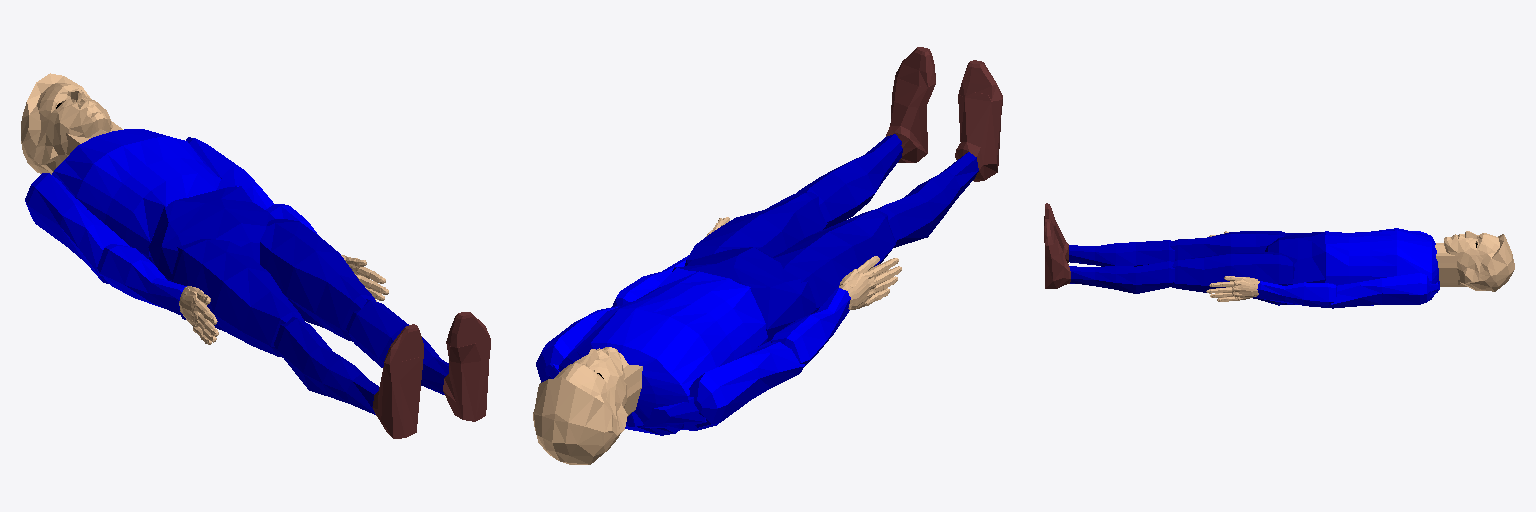
--- Render facts (derived) ---
Views: 3 orthographic renders of the robot side by side, from view 1: azimuth 30°, elevation 25°; view 2: azimuth 150°, elevation 25°; view 3: azimuth 270°, elevation 25°.
Model man1 with 64 links and 63 joints (63 revolute), rooted at Hips, posed every joint at zero.
Visible links, largest first — view 1: Chest, RThigh, LThigh, Hips, Head, RCalf, RShoulder3, LCalf, RForearm, RFoot, LFoot, LShoulder3 (+3 smaller); view 2: Chest, Head, RThigh, Hips, RShoulder3, LThigh, LCalf, RCalf, RFoot, LFoot, RForearm, LShoulder3 (+6 smaller); view 3: Chest, LThigh, Head, LShoulder3, LCalf, RCalf, Hips, RThigh, LForearm, LFoot, Neck.
Boxes of the visible links, x1=… form: Chest: x1=52, y1=129, x2=238, y2=261; RThigh: x1=170, y1=239, x2=304, y2=357; LThigh: x1=260, y1=219, x2=375, y2=341; Hips: x1=148, y1=186, x2=274, y2=280; Head: x1=21, y1=73, x2=112, y2=174; RCalf: x1=274, y1=317, x2=378, y2=414; RShoulder3: x1=25, y1=173, x2=129, y2=283; LCalf: x1=346, y1=299, x2=448, y2=394; RForearm: x1=97, y1=244, x2=186, y2=315; RFoot: x1=372, y1=356, x2=423, y2=438; LFoot: x1=443, y1=340, x2=490, y2=421; LShoulder3: x1=186, y1=137, x2=273, y2=209; Chest: x1=558, y1=267, x2=767, y2=435; Head: x1=533, y1=347, x2=627, y2=464; RThigh: x1=773, y1=208, x2=896, y2=310; Hips: x1=672, y1=247, x2=816, y2=341; RShoulder3: x1=689, y1=341, x2=804, y2=427; LThigh: x1=685, y1=192, x2=827, y2=265; LCalf: x1=796, y1=134, x2=902, y2=228; RCalf: x1=878, y1=152, x2=978, y2=247; RFoot: x1=955, y1=92, x2=1002, y2=181; LFoot: x1=886, y1=75, x2=935, y2=162; RForearm: x1=771, y1=288, x2=850, y2=366; LShoulder3: x1=536, y1=305, x2=622, y2=382; Chest: x1=1325, y1=228, x2=1439, y2=300; LThigh: x1=1171, y1=251, x2=1294, y2=305; Head: x1=1444, y1=231, x2=1514, y2=291; LShoulder3: x1=1325, y1=273, x2=1430, y2=308; LCalf: x1=1069, y1=261, x2=1174, y2=293; RCalf: x1=1069, y1=240, x2=1174, y2=266; Hips: x1=1265, y1=232, x2=1325, y2=305; RThigh: x1=1170, y1=231, x2=1285, y2=260; LForearm: x1=1257, y1=281, x2=1336, y2=307; LFoot: x1=1045, y1=238, x2=1070, y2=288; Neck: x1=1435, y1=243, x2=1466, y2=286.
Bounding box of the posed robot: 0.4804 × 1.67 × 0.3273 m (x, y, z).
64 mesh visuals loaded from 64 distinct referenced files (64 Collada DAE).

URDF robot description (man1):
<?xml version="1.0"?>
<robot name="man1"
       xmlns:xi="http://www.w3.org/2001/XInclude">
  <link name="Hips">
    <visual>
      <origin xyz="0 0.8569 0" rpy="0 -0 0"/>
      <geometry>
        <mesh filename="package://libhuman/robot/mesh/Hips_mesh.dae" scale="1 1 1" />
      </geometry>
    </visual>
    <collision>
      <origin xyz="0 0.8569 0" rpy="0 -0 0"/>
      <geometry>
        <mesh filename="package://libhuman/robot/mesh/Hips_mesh.dae" scale="1 1 1" />
      </geometry>
    </collision>
    <inertial>
      <mass value="1" />
      <origin xyz="0 0 0" rpy="0 -0 0"/>
      <inertia ixx="1" ixy="0" ixz="0" iyy="1" iyz="0" izz="1"/>
    </inertial>
  </link>
  <link name="Chest">
    <visual>
      <origin xyz="0 0.0824 -0.0145" rpy="0 -0 0"/>
      <geometry>
        <mesh filename="package://libhuman/robot/mesh/Chest_mesh.dae" scale="1 1 1" />
      </geometry>
    </visual>
    <collision>
      <origin xyz="0 0.0824 -0.0145" rpy="0 -0 0"/>
      <geometry>
        <mesh filename="package://libhuman/robot/mesh/Chest_mesh.dae" scale="1 1 1" />
      </geometry>
    </collision>
    <inertial>
      <mass value="1" />
      <origin xyz="0 -2.77556e-17 0" rpy="0 -0 0"/>
      <inertia ixx="1" ixy="0" ixz="0" iyy="1" iyz="0" izz="1"/>
    </inertial>
  </link>
  <link name="LCollar">
    <visual>
      <origin xyz="0 0.3917 0.0145" rpy="0 -0 0"/>
      <geometry>
        <mesh filename="package://libhuman/robot/mesh/LCollar_mesh.dae" scale="1 1 1" />
      </geometry>
    </visual>
    <collision>
      <origin xyz="0 0.3917 0.0145" rpy="0 -0 0"/>
      <geometry>
        <mesh filename="package://libhuman/robot/mesh/LCollar_mesh.dae" scale="1 1 1" />
      </geometry>
    </collision>
    <inertial>
      <mass value="1" />
      <origin xyz="0 5.55112e-17 0" rpy="0 -0 0"/>
      <inertia ixx="1" ixy="0" ixz="0" iyy="1" iyz="0" izz="1"/>
    </inertial>
  </link>
  <link name="LShoulder">
    <visual>
      <origin xyz="0.1744 0 0" rpy="0 -0 0"/>
      <geometry>
        <mesh filename="package://libhuman/robot/mesh/LShoulder_mesh.dae" scale="1 1 1" />
      </geometry>
    </visual>
    <collision>
      <origin xyz="0.1744 0 0" rpy="0 -0 0"/>
      <geometry>
        <mesh filename="package://libhuman/robot/mesh/LShoulder_mesh.dae" scale="1 1 1" />
      </geometry>
    </collision>
    <inertial>
      <mass value="1" />
      <origin xyz="0 5.55112e-17 0" rpy="0 -0 0"/>
      <inertia ixx="1" ixy="0" ixz="0" iyy="1" iyz="0" izz="1"/>
    </inertial>
  </link>
  <link name="LShoulder2">
    <visual>
      <origin xyz="0 0 0" rpy="0 -0 0"/>
      <geometry>
        <mesh filename="package://libhuman/robot/mesh/LShoulder2_mesh.dae" scale="1 1 1" />
      </geometry>
    </visual>
    <collision>
      <origin xyz="0 0 0" rpy="0 -0 0"/>
      <geometry>
        <mesh filename="package://libhuman/robot/mesh/LShoulder2_mesh.dae" scale="1 1 1" />
      </geometry>
    </collision>
    <inertial>
      <mass value="1" />
      <origin xyz="0 5.55112e-17 0" rpy="0 -0 0"/>
      <inertia ixx="1" ixy="0" ixz="0" iyy="1" iyz="0" izz="1"/>
    </inertial>
  </link>
  <link name="LShoulder3">
    <visual>
      <origin xyz="0 0 0" rpy="0 -0 0"/>
      <geometry>
        <mesh filename="package://libhuman/robot/mesh/LShoulder3_mesh.dae" scale="1 1 1" />
      </geometry>
    </visual>
    <collision>
      <origin xyz="0 0 0" rpy="0 -0 0"/>
      <geometry>
        <mesh filename="package://libhuman/robot/mesh/LShoulder3_mesh.dae" scale="1 1 1" />
      </geometry>
    </collision>
    <inertial>
      <mass value="1" />
      <origin xyz="0 5.55112e-17 0" rpy="0 -0 0"/>
      <inertia ixx="1" ixy="0" ixz="0" iyy="1" iyz="0" izz="1"/>
    </inertial>
  </link>
  <link name="LForearm">
    <visual>
      <origin xyz="0 -0.3102 0" rpy="0 -0 0"/>
      <geometry>
        <mesh filename="package://libhuman/robot/mesh/LForearm_mesh.dae" scale="1 1 1" />
      </geometry>
    </visual>
    <collision>
      <origin xyz="0 -0.3102 0" rpy="0 -0 0"/>
      <geometry>
        <mesh filename="package://libhuman/robot/mesh/LForearm_mesh.dae" scale="1 1 1" />
      </geometry>
    </collision>
    <inertial>
      <mass value="1" />
      <origin xyz="0 5.55112e-17 0" rpy="0 -0 0"/>
      <inertia ixx="1" ixy="0" ixz="0" iyy="1" iyz="0" izz="1"/>
    </inertial>
  </link>
  <link name="LHand">
    <visual>
      <origin xyz="0 -0.2617 0" rpy="0 -0 0"/>
      <geometry>
        <mesh filename="package://libhuman/robot/mesh/LHand_mesh.dae" scale="1 1 1" />
      </geometry>
    </visual>
    <collision>
      <origin xyz="0 -0.2617 0" rpy="0 -0 0"/>
      <geometry>
        <mesh filename="package://libhuman/robot/mesh/LHand_mesh.dae" scale="1 1 1" />
      </geometry>
    </collision>
    <inertial>
      <mass value="1" />
      <origin xyz="0 2.22045e-16 0" rpy="0 -0 0"/>
      <inertia ixx="1" ixy="0" ixz="0" iyy="1" iyz="0" izz="1"/>
    </inertial>
  </link>
  <link name="LHand2">
    <visual>
      <origin xyz="0 0 0" rpy="0 -0 0"/>
      <geometry>
        <mesh filename="package://libhuman/robot/mesh/LHand2_mesh.dae" scale="1 1 1" />
      </geometry>
    </visual>
    <collision>
      <origin xyz="0 0 0" rpy="0 -0 0"/>
      <geometry>
        <mesh filename="package://libhuman/robot/mesh/LHand2_mesh.dae" scale="1 1 1" />
      </geometry>
    </collision>
    <inertial>
      <mass value="1" />
      <origin xyz="0 2.22045e-16 0" rpy="0 -0 0"/>
      <inertia ixx="1" ixy="0" ixz="0" iyy="1" iyz="0" izz="1"/>
    </inertial>
  </link>
  <link name="LHand3">
    <visual>
      <origin xyz="0 0 0" rpy="0 -0 0"/>
      <geometry>
        <mesh filename="package://libhuman/robot/mesh/LHand3_mesh.dae" scale="1 1 1" />
      </geometry>
    </visual>
    <collision>
      <origin xyz="0 0 0" rpy="0 -0 0"/>
      <geometry>
        <mesh filename="package://libhuman/robot/mesh/LHand3_mesh.dae" scale="1 1 1" />
      </geometry>
    </collision>
    <inertial>
      <mass value="1" />
      <origin xyz="0 2.22045e-16 0" rpy="0 -0 0"/>
      <inertia ixx="1" ixy="0" ixz="0" iyy="1" iyz="0" izz="1"/>
    </inertial>
  </link>
  <link name="LFing10">
    <visual>
      <origin xyz="0.0150049 -0.0850973 0.02267" rpy="0 -0 0"/>
      <geometry>
        <mesh filename="package://libhuman/robot/mesh/LFing10_mesh.dae" scale="1 1 1" />
      </geometry>
    </visual>
    <collision>
      <origin xyz="0.0150049 -0.0850973 0.02267" rpy="0 -0 0"/>
      <geometry>
        <mesh filename="package://libhuman/robot/mesh/LFing10_mesh.dae" scale="1 1 1" />
      </geometry>
    </collision>
    <inertial>
      <mass value="1" />
      <origin xyz="1e-07 3e-07 0" rpy="0 -0 0"/>
      <inertia ixx="1" ixy="0" ixz="0" iyy="1" iyz="0" izz="1"/>
    </inertial>
  </link>
  <link name="LFing11">
    <visual>
      <origin xyz="0.00822397 -0.0466405 0" rpy="0 -0 0"/>
      <geometry>
        <mesh filename="package://libhuman/robot/mesh/LFing11_mesh.dae" scale="1 1 1" />
      </geometry>
    </visual>
    <collision>
      <origin xyz="0.00822397 -0.0466405 0" rpy="0 -0 0"/>
      <geometry>
        <mesh filename="package://libhuman/robot/mesh/LFing11_mesh.dae" scale="1 1 1" />
      </geometry>
    </collision>
    <inertial>
      <mass value="1" />
      <origin xyz="1.3e-07 -2e-07 0" rpy="0 -0 0"/>
      <inertia ixx="1" ixy="0" ixz="0" iyy="1" iyz="0" izz="1"/>
    </inertial>
  </link>
  <link name="LFing12">
    <visual>
      <origin xyz="0.004817 -0.0273186 0" rpy="0 -0 0"/>
      <geometry>
        <mesh filename="package://libhuman/robot/mesh/LFing12_mesh.dae" scale="1 1 1" />
      </geometry>
    </visual>
    <collision>
      <origin xyz="0.004817 -0.0273186 0" rpy="0 -0 0"/>
      <geometry>
        <mesh filename="package://libhuman/robot/mesh/LFing12_mesh.dae" scale="1 1 1" />
      </geometry>
    </collision>
    <inertial>
      <mass value="1" />
      <origin xyz="1.3e-07 4e-07 0" rpy="0 -0 0"/>
      <inertia ixx="1" ixy="0" ixz="0" iyy="1" iyz="0" izz="1"/>
    </inertial>
  </link>
  <link name="LFing20">
    <visual>
      <origin xyz="0.0149702 -0.0849003 0" rpy="0 -0 0"/>
      <geometry>
        <mesh filename="package://libhuman/robot/mesh/LFing20_mesh.dae" scale="1 1 1" />
      </geometry>
    </visual>
    <collision>
      <origin xyz="0.0149702 -0.0849003 0" rpy="0 -0 0"/>
      <geometry>
        <mesh filename="package://libhuman/robot/mesh/LFing20_mesh.dae" scale="1 1 1" />
      </geometry>
    </collision>
    <inertial>
      <mass value="1" />
      <origin xyz="-2e-07 3e-07 0" rpy="0 -0 0"/>
      <inertia ixx="1" ixy="0" ixz="0" iyy="1" iyz="0" izz="1"/>
    </inertial>
  </link>
  <link name="LFing21">
    <visual>
      <origin xyz="0.00892898 -0.0506388 0" rpy="0 -0 0"/>
      <geometry>
        <mesh filename="package://libhuman/robot/mesh/LFing21_mesh.dae" scale="1 1 1" />
      </geometry>
    </visual>
    <collision>
      <origin xyz="0.00892898 -0.0506388 0" rpy="0 -0 0"/>
      <geometry>
        <mesh filename="package://libhuman/robot/mesh/LFing21_mesh.dae" scale="1 1 1" />
      </geometry>
    </collision>
    <inertial>
      <mass value="1" />
      <origin xyz="-1.8e-07 1e-07 0" rpy="0 -0 0"/>
      <inertia ixx="1" ixy="0" ixz="0" iyy="1" iyz="0" izz="1"/>
    </inertial>
  </link>
  <link name="LFing22">
    <visual>
      <origin xyz="0.00570608 -0.0323608 0" rpy="0 -0 0"/>
      <geometry>
        <mesh filename="package://libhuman/robot/mesh/LFing22_mesh.dae" scale="1 1 1" />
      </geometry>
    </visual>
    <collision>
      <origin xyz="0.00570608 -0.0323608 0" rpy="0 -0 0"/>
      <geometry>
        <mesh filename="package://libhuman/robot/mesh/LFing22_mesh.dae" scale="1 1 1" />
      </geometry>
    </collision>
    <inertial>
      <mass value="1" />
      <origin xyz="-2.6e-07 -1e-07 0" rpy="0 -0 0"/>
      <inertia ixx="1" ixy="0" ixz="0" iyy="1" iyz="0" izz="1"/>
    </inertial>
  </link>
  <link name="LFing30">
    <visual>
      <origin xyz="0.0137286 -0.077859 -0.0186" rpy="0 -0 0"/>
      <geometry>
        <mesh filename="package://libhuman/robot/mesh/LFing30_mesh.dae" scale="1 1 1" />
      </geometry>
    </visual>
    <collision>
      <origin xyz="0.0137286 -0.077859 -0.0186" rpy="0 -0 0"/>
      <geometry>
        <mesh filename="package://libhuman/robot/mesh/LFing30_mesh.dae" scale="1 1 1" />
      </geometry>
    </collision>
    <inertial>
      <mass value="1" />
      <origin xyz="4e-07 2.22045e-16 0" rpy="0 -0 0"/>
      <inertia ixx="1" ixy="0" ixz="0" iyy="1" iyz="0" izz="1"/>
    </inertial>
  </link>
  <link name="LFing31">
    <visual>
      <origin xyz="0.00819098 -0.0464534 0" rpy="0 -0 0"/>
      <geometry>
        <mesh filename="package://libhuman/robot/mesh/LFing31_mesh.dae" scale="1 1 1" />
      </geometry>
    </visual>
    <collision>
      <origin xyz="0.00819098 -0.0464534 0" rpy="0 -0 0"/>
      <geometry>
        <mesh filename="package://libhuman/robot/mesh/LFing31_mesh.dae" scale="1 1 1" />
      </geometry>
    </collision>
    <inertial>
      <mass value="1" />
      <origin xyz="4.2e-07 4e-07 0" rpy="0 -0 0"/>
      <inertia ixx="1" ixy="0" ixz="0" iyy="1" iyz="0" izz="1"/>
    </inertial>
  </link>
  <link name="LFing32">
    <visual>
      <origin xyz="0.00553764 -0.0314055 0" rpy="0 -0 0"/>
      <geometry>
        <mesh filename="package://libhuman/robot/mesh/LFing32_mesh.dae" scale="1 1 1" />
      </geometry>
    </visual>
    <collision>
      <origin xyz="0.00553764 -0.0314055 0" rpy="0 -0 0"/>
      <geometry>
        <mesh filename="package://libhuman/robot/mesh/LFing32_mesh.dae" scale="1 1 1" />
      </geometry>
    </collision>
    <inertial>
      <mass value="1" />
      <origin xyz="-2.2e-07 -1e-07 0" rpy="0 -0 0"/>
      <inertia ixx="1" ixy="0" ixz="0" iyy="1" iyz="0" izz="1"/>
    </inertial>
  </link>
  <link name="LFing40">
    <visual>
      <origin xyz="0.0123516 -0.0700494 -0.0363" rpy="0 -0 0"/>
      <geometry>
        <mesh filename="package://libhuman/robot/mesh/LFing40_mesh.dae" scale="1 1 1" />
      </geometry>
    </visual>
    <collision>
      <origin xyz="0.0123516 -0.0700494 -0.0363" rpy="0 -0 0"/>
      <geometry>
        <mesh filename="package://libhuman/robot/mesh/LFing40_mesh.dae" scale="1 1 1" />
      </geometry>
    </collision>
    <inertial>
      <mass value="1" />
      <origin xyz="4e-07 4e-07 0" rpy="0 -0 0"/>
      <inertia ixx="1" ixy="0" ixz="0" iyy="1" iyz="0" izz="1"/>
    </inertial>
  </link>
  <link name="LFing41">
    <visual>
      <origin xyz="0.00684694 -0.038831 0" rpy="0 -0 0"/>
      <geometry>
        <mesh filename="package://libhuman/robot/mesh/LFing41_mesh.dae" scale="1 1 1" />
      </geometry>
    </visual>
    <collision>
      <origin xyz="0.00684694 -0.038831 0" rpy="0 -0 0"/>
      <geometry>
        <mesh filename="package://libhuman/robot/mesh/LFing41_mesh.dae" scale="1 1 1" />
      </geometry>
    </collision>
    <inertial>
      <mass value="1" />
      <origin xyz="4.6e-07 4e-07 0" rpy="0 -0 0"/>
      <inertia ixx="1" ixy="0" ixz="0" iyy="1" iyz="0" izz="1"/>
    </inertial>
  </link>
  <link name="LFing42">
    <visual>
      <origin xyz="0.0039279 -0.0222763 0" rpy="0 -0 0"/>
      <geometry>
        <mesh filename="package://libhuman/robot/mesh/LFing42_mesh.dae" scale="1 1 1" />
      </geometry>
    </visual>
    <collision>
      <origin xyz="0.0039279 -0.0222763 0" rpy="0 -0 0"/>
      <geometry>
        <mesh filename="package://libhuman/robot/mesh/LFing42_mesh.dae" scale="1 1 1" />
      </geometry>
    </collision>
    <inertial>
      <mass value="1" />
      <origin xyz="-4.4e-07 -3e-07 0" rpy="0 -0 0"/>
      <inertia ixx="1" ixy="0" ixz="0" iyy="1" iyz="0" izz="1"/>
    </inertial>
  </link>
  <link name="LThumbBase">
    <visual>
      <origin xyz="-0.00739791 -0.0156321 0.0177" rpy="0 -0 0"/>
      <geometry>
        <mesh filename="package://libhuman/robot/mesh/LThumbBase_mesh.dae" scale="1 1 1" />
      </geometry>
    </visual>
    <collision>
      <origin xyz="-0.00739791 -0.0156321 0.0177" rpy="0 -0 0"/>
      <geometry>
        <mesh filename="package://libhuman/robot/mesh/LThumbBase_mesh.dae" scale="1 1 1" />
      </geometry>
    </collision>
    <inertial>
      <mass value="1" />
      <origin xyz="-9e-08 1e-07 0" rpy="0 -0 0"/>
      <inertia ixx="1" ixy="0" ixz="0" iyy="1" iyz="0" izz="1"/>
    </inertial>
  </link>
  <link name="LThumbBase2">
    <visual>
      <origin xyz="0 0 0" rpy="0 -0 0"/>
      <geometry>
        <mesh filename="package://libhuman/robot/mesh/LThumbBase2_mesh.dae" scale="1 1 1" />
      </geometry>
    </visual>
    <collision>
      <origin xyz="0 0 0" rpy="0 -0 0"/>
      <geometry>
        <mesh filename="package://libhuman/robot/mesh/LThumbBase2_mesh.dae" scale="1 1 1" />
      </geometry>
    </collision>
    <inertial>
      <mass value="1" />
      <origin xyz="-9e-08 1e-07 0" rpy="0 -0 0"/>
      <inertia ixx="1" ixy="0" ixz="0" iyy="1" iyz="0" izz="1"/>
    </inertial>
  </link>
  <link name="LThumb0">
    <visual>
      <origin xyz="0 0 0" rpy="0 -0 0"/>
      <geometry>
        <mesh filename="package://libhuman/robot/mesh/LThumb0_mesh.dae" scale="1 1 1" />
      </geometry>
    </visual>
    <collision>
      <origin xyz="0 0 0" rpy="0 -0 0"/>
      <geometry>
        <mesh filename="package://libhuman/robot/mesh/LThumb0_mesh.dae" scale="1 1 1" />
      </geometry>
    </collision>
    <inertial>
      <mass value="1" />
      <origin xyz="-9e-08 1e-07 0" rpy="0 -0 0"/>
      <inertia ixx="1" ixy="0" ixz="0" iyy="1" iyz="0" izz="1"/>
    </inertial>
  </link>
  <link name="LThumb1">
    <visual>
      <origin xyz="0.0081383 -0.046155 0.012558" rpy="0 -0 0"/>
      <geometry>
        <mesh filename="package://libhuman/robot/mesh/LThumb1_mesh.dae" scale="1 1 1" />
      </geometry>
    </visual>
    <collision>
      <origin xyz="0.0081383 -0.046155 0.012558" rpy="0 -0 0"/>
      <geometry>
        <mesh filename="package://libhuman/robot/mesh/LThumb1_mesh.dae" scale="1 1 1" />
      </geometry>
    </collision>
    <inertial>
      <mass value="1" />
      <origin xyz="-3.9e-07 1e-07 0" rpy="0 -0 0"/>
      <inertia ixx="1" ixy="0" ixz="0" iyy="1" iyz="0" izz="1"/>
    </inertial>
  </link>
  <link name="LThumb2">
    <visual>
      <origin xyz="0.006355 -0.036043 0.0098067" rpy="0 -0 0"/>
      <geometry>
        <mesh filename="package://libhuman/robot/mesh/LThumb2_mesh.dae" scale="1 1 1" />
      </geometry>
    </visual>
    <collision>
      <origin xyz="0.006355 -0.036043 0.0098067" rpy="0 -0 0"/>
      <geometry>
        <mesh filename="package://libhuman/robot/mesh/LThumb2_mesh.dae" scale="1 1 1" />
      </geometry>
    </collision>
    <inertial>
      <mass value="1" />
      <origin xyz="-3.9e-07 1e-07 0" rpy="0 -0 0"/>
      <inertia ixx="1" ixy="0" ixz="0" iyy="1" iyz="0" izz="1"/>
    </inertial>
  </link>
  <link name="Neck">
    <visual>
      <origin xyz="0 0.4352 0.0048" rpy="0 -0 0"/>
      <geometry>
        <mesh filename="package://libhuman/robot/mesh/Neck_mesh.dae" scale="1 1 1" />
      </geometry>
    </visual>
    <collision>
      <origin xyz="0 0.4352 0.0048" rpy="0 -0 0"/>
      <geometry>
        <mesh filename="package://libhuman/robot/mesh/Neck_mesh.dae" scale="1 1 1" />
      </geometry>
    </collision>
    <inertial>
      <mass value="1" />
      <origin xyz="0 -1.11022e-16 -3.46945e-18" rpy="0 -0 0"/>
      <inertia ixx="1" ixy="0" ixz="0" iyy="1" iyz="0" izz="1"/>
    </inertial>
  </link>
  <link name="Head">
    <visual>
      <origin xyz="0 0.1255 0.0096" rpy="0 -0 0"/>
      <geometry>
        <mesh filename="package://libhuman/robot/mesh/Head_mesh.dae" scale="1 1 1" />
      </geometry>
    </visual>
    <collision>
      <origin xyz="0 0.1255 0.0096" rpy="0 -0 0"/>
      <geometry>
        <mesh filename="package://libhuman/robot/mesh/Head_mesh.dae" scale="1 1 1" />
      </geometry>
    </collision>
    <inertial>
      <mass value="1" />
      <origin xyz="0 0 -2.34459e-18" rpy="0 -0 0"/>
      <inertia ixx="1" ixy="0" ixz="0" iyy="1" iyz="0" izz="1"/>
    </inertial>
  </link>
  <link name="LeftEye">
    <visual>
      <origin xyz="0.029 0.035 0.091" rpy="0 -0 0"/>
      <geometry>
        <mesh filename="package://libhuman/robot/mesh/LeftEye_mesh.dae" scale="1 1 1" />
      </geometry>
    </visual>
    <collision>
      <origin xyz="0.029 0.035 0.091" rpy="0 -0 0"/>
      <geometry>
        <mesh filename="package://libhuman/robot/mesh/LeftEye_mesh.dae" scale="1 1 1" />
      </geometry>
    </collision>
    <inertial>
      <mass value="1" />
      <origin xyz="0 1.11022e-16 0" rpy="0 -0 0"/>
      <inertia ixx="1" ixy="0" ixz="0" iyy="1" iyz="0" izz="1"/>
    </inertial>
  </link>
  <link name="RightEye">
    <visual>
      <origin xyz="-0.03 0.035 0.091" rpy="0 -0 0"/>
      <geometry>
        <mesh filename="package://libhuman/robot/mesh/RightEye_mesh.dae" scale="1 1 1" />
      </geometry>
    </visual>
    <collision>
      <origin xyz="-0.03 0.035 0.091" rpy="0 -0 0"/>
      <geometry>
        <mesh filename="package://libhuman/robot/mesh/RightEye_mesh.dae" scale="1 1 1" />
      </geometry>
    </collision>
    <inertial>
      <mass value="1" />
      <origin xyz="0 1.11022e-16 0" rpy="0 -0 0"/>
      <inertia ixx="1" ixy="0" ixz="0" iyy="1" iyz="0" izz="1"/>
    </inertial>
  </link>
  <link name="RCollar">
    <visual>
      <origin xyz="0 0.3917 0.0145" rpy="0 -0 0"/>
      <geometry>
        <mesh filename="package://libhuman/robot/mesh/RCollar_mesh.dae" scale="1 1 1" />
      </geometry>
    </visual>
    <collision>
      <origin xyz="0 0.3917 0.0145" rpy="0 -0 0"/>
      <geometry>
        <mesh filename="package://libhuman/robot/mesh/RCollar_mesh.dae" scale="1 1 1" />
      </geometry>
    </collision>
    <inertial>
      <mass value="1" />
      <origin xyz="0 5.55112e-17 0" rpy="0 -0 0"/>
      <inertia ixx="1" ixy="0" ixz="0" iyy="1" iyz="0" izz="1"/>
    </inertial>
  </link>
  <link name="RShoulder">
    <visual>
      <origin xyz="-0.1744 0 0" rpy="0 -0 0"/>
      <geometry>
        <mesh filename="package://libhuman/robot/mesh/RShoulder_mesh.dae" scale="1 1 1" />
      </geometry>
    </visual>
    <collision>
      <origin xyz="-0.1744 0 0" rpy="0 -0 0"/>
      <geometry>
        <mesh filename="package://libhuman/robot/mesh/RShoulder_mesh.dae" scale="1 1 1" />
      </geometry>
    </collision>
    <inertial>
      <mass value="1" />
      <origin xyz="0 5.55112e-17 0" rpy="0 -0 0"/>
      <inertia ixx="1" ixy="0" ixz="0" iyy="1" iyz="0" izz="1"/>
    </inertial>
  </link>
  <link name="RShoulder2">
    <visual>
      <origin xyz="0 0 0" rpy="0 -0 0"/>
      <geometry>
        <mesh filename="package://libhuman/robot/mesh/RShoulder2_mesh.dae" scale="1 1 1" />
      </geometry>
    </visual>
    <collision>
      <origin xyz="0 0 0" rpy="0 -0 0"/>
      <geometry>
        <mesh filename="package://libhuman/robot/mesh/RShoulder2_mesh.dae" scale="1 1 1" />
      </geometry>
    </collision>
    <inertial>
      <mass value="1" />
      <origin xyz="0 5.55112e-17 0" rpy="0 -0 0"/>
      <inertia ixx="1" ixy="0" ixz="0" iyy="1" iyz="0" izz="1"/>
    </inertial>
  </link>
  <link name="RShoulder3">
    <visual>
      <origin xyz="0 0 0" rpy="0 -0 0"/>
      <geometry>
        <mesh filename="package://libhuman/robot/mesh/RShoulder3_mesh.dae" scale="1 1 1" />
      </geometry>
    </visual>
    <collision>
      <origin xyz="0 0 0" rpy="0 -0 0"/>
      <geometry>
        <mesh filename="package://libhuman/robot/mesh/RShoulder3_mesh.dae" scale="1 1 1" />
      </geometry>
    </collision>
    <inertial>
      <mass value="1" />
      <origin xyz="0 5.55112e-17 0" rpy="0 -0 0"/>
      <inertia ixx="1" ixy="0" ixz="0" iyy="1" iyz="0" izz="1"/>
    </inertial>
  </link>
  <link name="RForearm">
    <visual>
      <origin xyz="0 -0.3102 0" rpy="0 -0 0"/>
      <geometry>
        <mesh filename="package://libhuman/robot/mesh/RForearm_mesh.dae" scale="1 1 1" />
      </geometry>
    </visual>
    <collision>
      <origin xyz="0 -0.3102 0" rpy="0 -0 0"/>
      <geometry>
        <mesh filename="package://libhuman/robot/mesh/RForearm_mesh.dae" scale="1 1 1" />
      </geometry>
    </collision>
    <inertial>
      <mass value="1" />
      <origin xyz="0 5.55112e-17 0" rpy="0 -0 0"/>
      <inertia ixx="1" ixy="0" ixz="0" iyy="1" iyz="0" izz="1"/>
    </inertial>
  </link>
  <link name="RHand">
    <visual>
      <origin xyz="0 -0.2617 0" rpy="0 -0 0"/>
      <geometry>
        <mesh filename="package://libhuman/robot/mesh/RHand_mesh.dae" scale="1 1 1" />
      </geometry>
    </visual>
    <collision>
      <origin xyz="0 -0.2617 0" rpy="0 -0 0"/>
      <geometry>
        <mesh filename="package://libhuman/robot/mesh/RHand_mesh.dae" scale="1 1 1" />
      </geometry>
    </collision>
    <inertial>
      <mass value="1" />
      <origin xyz="0 2.22045e-16 0" rpy="0 -0 0"/>
      <inertia ixx="1" ixy="0" ixz="0" iyy="1" iyz="0" izz="1"/>
    </inertial>
  </link>
  <link name="RHand2">
    <visual>
      <origin xyz="0 0 0" rpy="0 -0 0"/>
      <geometry>
        <mesh filename="package://libhuman/robot/mesh/RHand2_mesh.dae" scale="1 1 1" />
      </geometry>
    </visual>
    <collision>
      <origin xyz="0 0 0" rpy="0 -0 0"/>
      <geometry>
        <mesh filename="package://libhuman/robot/mesh/RHand2_mesh.dae" scale="1 1 1" />
      </geometry>
    </collision>
    <inertial>
      <mass value="1" />
      <origin xyz="0 2.22045e-16 0" rpy="0 -0 0"/>
      <inertia ixx="1" ixy="0" ixz="0" iyy="1" iyz="0" izz="1"/>
    </inertial>
  </link>
  <link name="RHand3">
    <visual>
      <origin xyz="0 0 0" rpy="0 -0 0"/>
      <geometry>
        <mesh filename="package://libhuman/robot/mesh/RHand3_mesh.dae" scale="1 1 1" />
      </geometry>
    </visual>
    <collision>
      <origin xyz="0 0 0" rpy="0 -0 0"/>
      <geometry>
        <mesh filename="package://libhuman/robot/mesh/RHand3_mesh.dae" scale="1 1 1" />
      </geometry>
    </collision>
    <inertial>
      <mass value="1" />
      <origin xyz="0 2.22045e-16 0" rpy="0 -0 0"/>
      <inertia ixx="1" ixy="0" ixz="0" iyy="1" iyz="0" izz="1"/>
    </inertial>
  </link>
  <link name="RFing10">
    <visual>
      <origin xyz="-0.0150049 -0.0850973 0.02267" rpy="0 -0 0"/>
      <geometry>
        <mesh filename="package://libhuman/robot/mesh/RFing10_mesh.dae" scale="1 1 1" />
      </geometry>
    </visual>
    <collision>
      <origin xyz="-0.0150049 -0.0850973 0.02267" rpy="0 -0 0"/>
      <geometry>
        <mesh filename="package://libhuman/robot/mesh/RFing10_mesh.dae" scale="1 1 1" />
      </geometry>
    </collision>
    <inertial>
      <mass value="1" />
      <origin xyz="-1e-07 3e-07 0" rpy="0 -0 0"/>
      <inertia ixx="1" ixy="0" ixz="0" iyy="1" iyz="0" izz="1"/>
    </inertial>
  </link>
  <link name="RFing11">
    <visual>
      <origin xyz="-0.00822397 -0.0466405 0" rpy="0 -0 0"/>
      <geometry>
        <mesh filename="package://libhuman/robot/mesh/RFing11_mesh.dae" scale="1 1 1" />
      </geometry>
    </visual>
    <collision>
      <origin xyz="-0.00822397 -0.0466405 0" rpy="0 -0 0"/>
      <geometry>
        <mesh filename="package://libhuman/robot/mesh/RFing11_mesh.dae" scale="1 1 1" />
      </geometry>
    </collision>
    <inertial>
      <mass value="1" />
      <origin xyz="-1.3e-07 -2e-07 0" rpy="0 -0 0"/>
      <inertia ixx="1" ixy="0" ixz="0" iyy="1" iyz="0" izz="1"/>
    </inertial>
  </link>
  <link name="RFing12">
    <visual>
      <origin xyz="-0.004817 -0.0273186 0" rpy="0 -0 0"/>
      <geometry>
        <mesh filename="package://libhuman/robot/mesh/RFing12_mesh.dae" scale="1 1 1" />
      </geometry>
    </visual>
    <collision>
      <origin xyz="-0.004817 -0.0273186 0" rpy="0 -0 0"/>
      <geometry>
        <mesh filename="package://libhuman/robot/mesh/RFing12_mesh.dae" scale="1 1 1" />
      </geometry>
    </collision>
    <inertial>
      <mass value="1" />
      <origin xyz="-1.3e-07 4e-07 0" rpy="0 -0 0"/>
      <inertia ixx="1" ixy="0" ixz="0" iyy="1" iyz="0" izz="1"/>
    </inertial>
  </link>
  <link name="RFing20">
    <visual>
      <origin xyz="-0.0149702 -0.0849003 0" rpy="0 -0 0"/>
      <geometry>
        <mesh filename="package://libhuman/robot/mesh/RFing20_mesh.dae" scale="1 1 1" />
      </geometry>
    </visual>
    <collision>
      <origin xyz="-0.0149702 -0.0849003 0" rpy="0 -0 0"/>
      <geometry>
        <mesh filename="package://libhuman/robot/mesh/RFing20_mesh.dae" scale="1 1 1" />
      </geometry>
    </collision>
    <inertial>
      <mass value="1" />
      <origin xyz="2e-07 3e-07 0" rpy="0 -0 0"/>
      <inertia ixx="1" ixy="0" ixz="0" iyy="1" iyz="0" izz="1"/>
    </inertial>
  </link>
  <link name="RFing21">
    <visual>
      <origin xyz="-0.00892898 -0.0506388 0" rpy="0 -0 0"/>
      <geometry>
        <mesh filename="package://libhuman/robot/mesh/RFing21_mesh.dae" scale="1 1 1" />
      </geometry>
    </visual>
    <collision>
      <origin xyz="-0.00892898 -0.0506388 0" rpy="0 -0 0"/>
      <geometry>
        <mesh filename="package://libhuman/robot/mesh/RFing21_mesh.dae" scale="1 1 1" />
      </geometry>
    </collision>
    <inertial>
      <mass value="1" />
      <origin xyz="1.8e-07 1e-07 0" rpy="0 -0 0"/>
      <inertia ixx="1" ixy="0" ixz="0" iyy="1" iyz="0" izz="1"/>
    </inertial>
  </link>
  <link name="RFing22">
    <visual>
      <origin xyz="-0.00570608 -0.0323608 0" rpy="0 -0 0"/>
      <geometry>
        <mesh filename="package://libhuman/robot/mesh/RFing22_mesh.dae" scale="1 1 1" />
      </geometry>
    </visual>
    <collision>
      <origin xyz="-0.00570608 -0.0323608 0" rpy="0 -0 0"/>
      <geometry>
        <mesh filename="package://libhuman/robot/mesh/RFing22_mesh.dae" scale="1 1 1" />
      </geometry>
    </collision>
    <inertial>
      <mass value="1" />
      <origin xyz="2.6e-07 -1e-07 0" rpy="0 -0 0"/>
      <inertia ixx="1" ixy="0" ixz="0" iyy="1" iyz="0" izz="1"/>
    </inertial>
  </link>
  <link name="RFing30">
    <visual>
      <origin xyz="-0.0137286 -0.077859 -0.0186" rpy="0 -0 0"/>
      <geometry>
        <mesh filename="package://libhuman/robot/mesh/RFing30_mesh.dae" scale="1 1 1" />
      </geometry>
    </visual>
    <collision>
      <origin xyz="-0.0137286 -0.077859 -0.0186" rpy="0 -0 0"/>
      <geometry>
        <mesh filename="package://libhuman/robot/mesh/RFing30_mesh.dae" scale="1 1 1" />
      </geometry>
    </collision>
    <inertial>
      <mass value="1" />
      <origin xyz="-4e-07 2.22045e-16 0" rpy="0 -0 0"/>
      <inertia ixx="1" ixy="0" ixz="0" iyy="1" iyz="0" izz="1"/>
    </inertial>
  </link>
  <link name="RFing31">
    <visual>
      <origin xyz="-0.00819098 -0.0464534 0" rpy="0 -0 0"/>
      <geometry>
        <mesh filename="package://libhuman/robot/mesh/RFing31_mesh.dae" scale="1 1 1" />
      </geometry>
    </visual>
    <collision>
      <origin xyz="-0.00819098 -0.0464534 0" rpy="0 -0 0"/>
      <geometry>
        <mesh filename="package://libhuman/robot/mesh/RFing31_mesh.dae" scale="1 1 1" />
      </geometry>
    </collision>
    <inertial>
      <mass value="1" />
      <origin xyz="-4.2e-07 4e-07 0" rpy="0 -0 0"/>
      <inertia ixx="1" ixy="0" ixz="0" iyy="1" iyz="0" izz="1"/>
    </inertial>
  </link>
  <link name="RFing32">
    <visual>
      <origin xyz="-0.00553764 -0.0314055 0" rpy="0 -0 0"/>
      <geometry>
        <mesh filename="package://libhuman/robot/mesh/RFing32_mesh.dae" scale="1 1 1" />
      </geometry>
    </visual>
    <collision>
      <origin xyz="-0.00553764 -0.0314055 0" rpy="0 -0 0"/>
      <geometry>
        <mesh filename="package://libhuman/robot/mesh/RFing32_mesh.dae" scale="1 1 1" />
      </geometry>
    </collision>
    <inertial>
      <mass value="1" />
      <origin xyz="2.2e-07 -1e-07 0" rpy="0 -0 0"/>
      <inertia ixx="1" ixy="0" ixz="0" iyy="1" iyz="0" izz="1"/>
    </inertial>
  </link>
  <link name="RFing40">
    <visual>
      <origin xyz="-0.0123516 -0.0700494 -0.0363" rpy="0 -0 0"/>
      <geometry>
        <mesh filename="package://libhuman/robot/mesh/RFing40_mesh.dae" scale="1 1 1" />
      </geometry>
    </visual>
    <collision>
      <origin xyz="-0.0123516 -0.0700494 -0.0363" rpy="0 -0 0"/>
      <geometry>
        <mesh filename="package://libhuman/robot/mesh/RFing40_mesh.dae" scale="1 1 1" />
      </geometry>
    </collision>
    <inertial>
      <mass value="1" />
      <origin xyz="-4e-07 4e-07 0" rpy="0 -0 0"/>
      <inertia ixx="1" ixy="0" ixz="0" iyy="1" iyz="0" izz="1"/>
    </inertial>
  </link>
  <link name="RFing41">
    <visual>
      <origin xyz="-0.00684694 -0.038831 0" rpy="0 -0 0"/>
      <geometry>
        <mesh filename="package://libhuman/robot/mesh/RFing41_mesh.dae" scale="1 1 1" />
      </geometry>
    </visual>
    <collision>
      <origin xyz="-0.00684694 -0.038831 0" rpy="0 -0 0"/>
      <geometry>
        <mesh filename="package://libhuman/robot/mesh/RFing41_mesh.dae" scale="1 1 1" />
      </geometry>
    </collision>
    <inertial>
      <mass value="1" />
      <origin xyz="-4.6e-07 4e-07 0" rpy="0 -0 0"/>
      <inertia ixx="1" ixy="0" ixz="0" iyy="1" iyz="0" izz="1"/>
    </inertial>
  </link>
  <link name="RFing42">
    <visual>
      <origin xyz="-0.00392792 -0.0222764 0" rpy="0 -0 0"/>
      <geometry>
        <mesh filename="package://libhuman/robot/mesh/RFing42_mesh.dae" scale="1 1 1" />
      </geometry>
    </visual>
    <collision>
      <origin xyz="-0.00392792 -0.0222764 0" rpy="0 -0 0"/>
      <geometry>
        <mesh filename="package://libhuman/robot/mesh/RFing42_mesh.dae" scale="1 1 1" />
      </geometry>
    </collision>
    <inertial>
      <mass value="1" />
      <origin xyz="4.6e-07 -2e-07 0" rpy="0 -0 0"/>
      <inertia ixx="1" ixy="0" ixz="0" iyy="1" iyz="0" izz="1"/>
    </inertial>
  </link>
  <link name="RThumbBase">
    <visual>
      <origin xyz="0.00739791 -0.0156321 0.0177" rpy="0 -0 0"/>
      <geometry>
        <mesh filename="package://libhuman/robot/mesh/RThumbBase_mesh.dae" scale="1 1 1" />
      </geometry>
    </visual>
    <collision>
      <origin xyz="0.00739791 -0.0156321 0.0177" rpy="0 -0 0"/>
      <geometry>
        <mesh filename="package://libhuman/robot/mesh/RThumbBase_mesh.dae" scale="1 1 1" />
      </geometry>
    </collision>
    <inertial>
      <mass value="1" />
      <origin xyz="9e-08 1e-07 0" rpy="0 -0 0"/>
      <inertia ixx="1" ixy="0" ixz="0" iyy="1" iyz="0" izz="1"/>
    </inertial>
  </link>
  <link name="RThumbBase2">
    <visual>
      <origin xyz="0 0 0" rpy="0 -0 0"/>
      <geometry>
        <mesh filename="package://libhuman/robot/mesh/RThumbBase2_mesh.dae" scale="1 1 1" />
      </geometry>
    </visual>
    <collision>
      <origin xyz="0 0 0" rpy="0 -0 0"/>
      <geometry>
        <mesh filename="package://libhuman/robot/mesh/RThumbBase2_mesh.dae" scale="1 1 1" />
      </geometry>
    </collision>
    <inertial>
      <mass value="1" />
      <origin xyz="9e-08 1e-07 0" rpy="0 -0 0"/>
      <inertia ixx="1" ixy="0" ixz="0" iyy="1" iyz="0" izz="1"/>
    </inertial>
  </link>
  <link name="RThumb0">
    <visual>
      <origin xyz="0 0 0" rpy="0 -0 0"/>
      <geometry>
        <mesh filename="package://libhuman/robot/mesh/RThumb0_mesh.dae" scale="1 1 1" />
      </geometry>
    </visual>
    <collision>
      <origin xyz="0 0 0" rpy="0 -0 0"/>
      <geometry>
        <mesh filename="package://libhuman/robot/mesh/RThumb0_mesh.dae" scale="1 1 1" />
      </geometry>
    </collision>
    <inertial>
      <mass value="1" />
      <origin xyz="9e-08 1e-07 0" rpy="0 -0 0"/>
      <inertia ixx="1" ixy="0" ixz="0" iyy="1" iyz="0" izz="1"/>
    </inertial>
  </link>
  <link name="RThumb1">
    <visual>
      <origin xyz="-0.0081383 -0.046155 0.012558" rpy="0 -0 0"/>
      <geometry>
        <mesh filename="package://libhuman/robot/mesh/RThumb1_mesh.dae" scale="1 1 1" />
      </geometry>
    </visual>
    <collision>
      <origin xyz="-0.0081383 -0.046155 0.012558" rpy="0 -0 0"/>
      <geometry>
        <mesh filename="package://libhuman/robot/mesh/RThumb1_mesh.dae" scale="1 1 1" />
      </geometry>
    </collision>
    <inertial>
      <mass value="1" />
      <origin xyz="3.9e-07 1e-07 0" rpy="0 -0 0"/>
      <inertia ixx="1" ixy="0" ixz="0" iyy="1" iyz="0" izz="1"/>
    </inertial>
  </link>
  <link name="RThumb2">
    <visual>
      <origin xyz="-0.006355 -0.03604 0.009807" rpy="0 -0 0"/>
      <geometry>
        <mesh filename="package://libhuman/robot/mesh/RThumb2_mesh.dae" scale="1 1 1" />
      </geometry>
    </visual>
    <collision>
      <origin xyz="-0.006355 -0.03604 0.009807" rpy="0 -0 0"/>
      <geometry>
        <mesh filename="package://libhuman/robot/mesh/RThumb2_mesh.dae" scale="1 1 1" />
      </geometry>
    </collision>
    <inertial>
      <mass value="1" />
      <origin xyz="3.9e-07 1e-07 -6.93889e-18" rpy="0 -0 0"/>
      <inertia ixx="1" ixy="0" ixz="0" iyy="1" iyz="0" izz="1"/>
    </inertial>
  </link>
  <link name="LThigh">
    <visual>
      <origin xyz="0.0824 0 0" rpy="0 -0 0"/>
      <geometry>
        <mesh filename="package://libhuman/robot/mesh/LThigh_mesh.dae" scale="1 1 1" />
      </geometry>
    </visual>
    <collision>
      <origin xyz="0.0824 0 0" rpy="0 -0 0"/>
      <geometry>
        <mesh filename="package://libhuman/robot/mesh/LThigh_mesh.dae" scale="1 1 1" />
      </geometry>
    </collision>
    <inertial>
      <mass value="1" />
      <origin xyz="0 0 0" rpy="0 -0 0"/>
      <inertia ixx="1" ixy="0" ixz="0" iyy="1" iyz="0" izz="1"/>
    </inertial>
  </link>
  <link name="LCalf">
    <visual>
      <origin xyz="0 -0.3877 0" rpy="0 -0 0"/>
      <geometry>
        <mesh filename="package://libhuman/robot/mesh/LCalf_mesh.dae" scale="1 1 1" />
      </geometry>
    </visual>
    <collision>
      <origin xyz="0 -0.3877 0" rpy="0 -0 0"/>
      <geometry>
        <mesh filename="package://libhuman/robot/mesh/LCalf_mesh.dae" scale="1 1 1" />
      </geometry>
    </collision>
    <inertial>
      <mass value="1" />
      <origin xyz="0 0 0" rpy="0 -0 0"/>
      <inertia ixx="1" ixy="0" ixz="0" iyy="1" iyz="0" izz="1"/>
    </inertial>
  </link>
  <link name="LFoot">
    <visual>
      <origin xyz="0 -0.4023 0" rpy="0 -0 0"/>
      <geometry>
        <mesh filename="package://libhuman/robot/mesh/LFoot_mesh.dae" scale="1 1 1" />
      </geometry>
    </visual>
    <collision>
      <origin xyz="0 -0.4023 0" rpy="0 -0 0"/>
      <geometry>
        <mesh filename="package://libhuman/robot/mesh/LFoot_mesh.dae" scale="1 1 1" />
      </geometry>
    </collision>
    <inertial>
      <mass value="1" />
      <origin xyz="0 0 0" rpy="0 -0 0"/>
      <inertia ixx="1" ixy="0" ixz="0" iyy="1" iyz="0" izz="1"/>
    </inertial>
  </link>
  <link name="LToe">
    <visual>
      <origin xyz="0 -0.0387 0.1405" rpy="0 -0 0"/>
      <geometry>
        <mesh filename="package://libhuman/robot/mesh/LToe_mesh.dae" scale="1 1 1" />
      </geometry>
    </visual>
    <collision>
      <origin xyz="0 -0.0387 0.1405" rpy="0 -0 0"/>
      <geometry>
        <mesh filename="package://libhuman/robot/mesh/LToe_mesh.dae" scale="1 1 1" />
      </geometry>
    </collision>
    <inertial>
      <mass value="1" />
      <origin xyz="0 0 0" rpy="0 -0 0"/>
      <inertia ixx="1" ixy="0" ixz="0" iyy="1" iyz="0" izz="1"/>
    </inertial>
  </link>
  <link name="RThigh">
    <visual>
      <origin xyz="-0.0824 0 0" rpy="0 -0 0"/>
      <geometry>
        <mesh filename="package://libhuman/robot/mesh/RThigh_mesh.dae" scale="1 1 1" />
      </geometry>
    </visual>
    <collision>
      <origin xyz="-0.0824 0 0" rpy="0 -0 0"/>
      <geometry>
        <mesh filename="package://libhuman/robot/mesh/RThigh_mesh.dae" scale="1 1 1" />
      </geometry>
    </collision>
    <inertial>
      <mass value="1" />
      <origin xyz="0 0 0" rpy="0 -0 0"/>
      <inertia ixx="1" ixy="0" ixz="0" iyy="1" iyz="0" izz="1"/>
    </inertial>
  </link>
  <link name="RCalf">
    <visual>
      <origin xyz="0 -0.3877 0" rpy="0 -0 0"/>
      <geometry>
        <mesh filename="package://libhuman/robot/mesh/RCalf_mesh.dae" scale="1 1 1" />
      </geometry>
    </visual>
    <collision>
      <origin xyz="0 -0.3877 0" rpy="0 -0 0"/>
      <geometry>
        <mesh filename="package://libhuman/robot/mesh/RCalf_mesh.dae" scale="1 1 1" />
      </geometry>
    </collision>
    <inertial>
      <mass value="1" />
      <origin xyz="0 0 0" rpy="0 -0 0"/>
      <inertia ixx="1" ixy="0" ixz="0" iyy="1" iyz="0" izz="1"/>
    </inertial>
  </link>
  <link name="RFoot">
    <visual>
      <origin xyz="0 -0.4023 0" rpy="0 -0 0"/>
      <geometry>
        <mesh filename="package://libhuman/robot/mesh/RFoot_mesh.dae" scale="1 1 1" />
      </geometry>
    </visual>
    <collision>
      <origin xyz="0 -0.4023 0" rpy="0 -0 0"/>
      <geometry>
        <mesh filename="package://libhuman/robot/mesh/RFoot_mesh.dae" scale="1 1 1" />
      </geometry>
    </collision>
    <inertial>
      <mass value="1" />
      <origin xyz="0 0 0" rpy="0 -0 0"/>
      <inertia ixx="1" ixy="0" ixz="0" iyy="1" iyz="0" izz="1"/>
    </inertial>
  </link>
  <link name="RToe">
    <visual>
      <origin xyz="0 -0.0387 0.1405" rpy="0 -0 0"/>
      <geometry>
        <mesh filename="package://libhuman/robot/mesh/RToe_mesh.dae" scale="1 1 1" />
      </geometry>
    </visual>
    <collision>
      <origin xyz="0 -0.0387 0.1405" rpy="0 -0 0"/>
      <geometry>
        <mesh filename="package://libhuman/robot/mesh/RToe_mesh.dae" scale="1 1 1" />
      </geometry>
    </collision>
    <inertial>
      <mass value="1" />
      <origin xyz="0 0 0" rpy="0 -0 0"/>
      <inertia ixx="1" ixy="0" ixz="0" iyy="1" iyz="0" izz="1"/>
    </inertial>
  </link>
  <joint name="JChest" type="revolute">
    <parent link="Hips"/>
    <child  link="Chest"/>
    <origin xyz="0 0.0824 -0.0145" rpy="0 -0 0 "/>
    <axis   xyz="-1 0 0"/>
    <limit lower="-2.0944" upper="1.0472" effort="100000" velocity="1" />
    <dynamics damping="0.2" friction="0" />
  </joint>
  <joint name="JLCollar" type="revolute">
    <parent link="Chest"/>
    <child  link="LCollar"/>
    <origin xyz="0 0.3917 0.0145" rpy="0 -0 0 "/>
    <axis   xyz="0 0 -1"/>
    <limit lower="-0.174533" upper="0.174533" effort="100000" velocity="1" />
    <dynamics damping="0.2" friction="0" />
  </joint>
  <joint name="JLShoulder" type="revolute">
    <parent link="LCollar"/>
    <child  link="LShoulder"/>
    <origin xyz="0.1744 0 0" rpy="0 -0 0 "/>
    <axis   xyz="1 0 0"/>
    <limit lower="-3.28122" upper="1.06465" effort="100000" velocity="1" />
    <dynamics damping="0.2" friction="0" />
  </joint>
  <joint name="JLShoulder2" type="revolute">
    <parent link="LShoulder"/>
    <child  link="LShoulder2"/>
    <origin xyz="0 0 0" rpy="0 -0 0 "/>
    <axis   xyz="0 0 -1"/>
    <limit lower="-2.33874" upper="0.837758" effort="100000" velocity="1" />
    <dynamics damping="0.2" friction="0" />
  </joint>
  <joint name="JLShoulder3" type="revolute">
    <parent link="LShoulder2"/>
    <child  link="LShoulder3"/>
    <origin xyz="0 0 0" rpy="0 -0 0 "/>
    <axis   xyz="0 1 0"/>
    <limit lower="-1.64061" upper="0.593412" effort="100000" velocity="1" />
    <dynamics damping="0.2" friction="0" />
  </joint>
  <joint name="JLForearm" type="revolute">
    <parent link="LShoulder3"/>
    <child  link="LForearm"/>
    <origin xyz="0 -0.3102 0" rpy="0 -0 0 "/>
    <axis   xyz="1 0 0"/>
    <limit lower="-2.47837" upper="0.0174533" effort="100000" velocity="1" />
    <dynamics damping="0.2" friction="0" />
  </joint>
  <joint name="JLHand" type="revolute">
    <parent link="LForearm"/>
    <child  link="LHand"/>
    <origin xyz="0 -0.2617 0" rpy="0 -0 0 "/>
    <axis   xyz="0 -1 0"/>
    <limit lower="-1.3439" upper="1.97222" effort="100000" velocity="1" />
    <dynamics damping="0.2" friction="0" />
  </joint>
  <joint name="JLHand2" type="revolute">
    <parent link="LHand"/>
    <child  link="LHand2"/>
    <origin xyz="0 0 0" rpy="0 -0 0 "/>
    <axis   xyz="-1 0 0"/>
    <limit lower="-0.820305" upper="0.471239" effort="100000" velocity="1" />
    <dynamics damping="0.2" friction="0" />
  </joint>
  <joint name="JLHand3" type="revolute">
    <parent link="LHand2"/>
    <child  link="LHand3"/>
    <origin xyz="0 0 0" rpy="0 -0 0 "/>
    <axis   xyz="0 0 1"/>
    <limit lower="-1.5708" upper="1.41372" effort="100000" velocity="1" />
    <dynamics damping="0.2" friction="0" />
  </joint>
  <joint name="JLFing10" type="revolute">
    <parent link="LHand3"/>
    <child  link="LFing10"/>
    <origin xyz="0.0150049 -0.0850973 0.02267" rpy="0 -0 0 "/>
    <axis   xyz="0 0 -1"/>
    <limit lower="-1.74533" upper="1.74533" effort="100000" velocity="2" />
    <dynamics damping="0.2" friction="0" />
  </joint>
  <joint name="JLFing11" type="revolute">
    <parent link="LFing10"/>
    <child  link="LFing11"/>
    <origin xyz="0.00822397 -0.0466405 0" rpy="0 -0 0 "/>
    <axis   xyz="0 0 -1"/>
    <limit lower="-1.74533" upper="1.74533" effort="100000" velocity="2" />
    <dynamics damping="0.2" friction="0" />
  </joint>
  <joint name="JLFing12" type="revolute">
    <parent link="LFing11"/>
    <child  link="LFing12"/>
    <origin xyz="0.004817 -0.0273186 0" rpy="0 -0 0 "/>
    <axis   xyz="0 0 -1"/>
    <limit lower="-1.74533" upper="1.74533" effort="100000" velocity="2" />
    <dynamics damping="0.2" friction="0" />
  </joint>
  <joint name="JLFing20" type="revolute">
    <parent link="LHand3"/>
    <child  link="LFing20"/>
    <origin xyz="0.0149702 -0.0849003 0" rpy="0 -0 0 "/>
    <axis   xyz="0 0 -1"/>
    <limit lower="-1.74533" upper="1.74533" effort="100000" velocity="2" />
    <dynamics damping="0.2" friction="0" />
  </joint>
  <joint name="JLFing21" type="revolute">
    <parent link="LFing20"/>
    <child  link="LFing21"/>
    <origin xyz="0.00892898 -0.0506388 0" rpy="0 -0 0 "/>
    <axis   xyz="0 0 -1"/>
    <limit lower="-1.74533" upper="1.74533" effort="100000" velocity="2" />
    <dynamics damping="0.2" friction="0" />
  </joint>
  <joint name="JLFing22" type="revolute">
    <parent link="LFing21"/>
    <child  link="LFing22"/>
    <origin xyz="0.00570608 -0.0323608 0" rpy="0 -0 0 "/>
    <axis   xyz="0 0 -1"/>
    <limit lower="-1.74533" upper="1.74533" effort="100000" velocity="2" />
    <dynamics damping="0.2" friction="0" />
  </joint>
  <joint name="JLFing30" type="revolute">
    <parent link="LHand3"/>
    <child  link="LFing30"/>
    <origin xyz="0.0137286 -0.077859 -0.0186" rpy="0 -0 0 "/>
    <axis   xyz="0 0 -1"/>
    <limit lower="-1.74533" upper="1.74533" effort="100000" velocity="2" />
    <dynamics damping="0.2" friction="0" />
  </joint>
  <joint name="JLFing31" type="revolute">
    <parent link="LFing30"/>
    <child  link="LFing31"/>
    <origin xyz="0.00819098 -0.0464534 0" rpy="0 -0 0 "/>
    <axis   xyz="0 0 -1"/>
    <limit lower="-1.74533" upper="1.74533" effort="100000" velocity="2" />
    <dynamics damping="0.2" friction="0" />
  </joint>
  <joint name="JLFing32" type="revolute">
    <parent link="LFing31"/>
    <child  link="LFing32"/>
    <origin xyz="0.00553764 -0.0314055 0" rpy="0 -0 0 "/>
    <axis   xyz="0 0 -1"/>
    <limit lower="-1.74533" upper="1.74533" effort="100000" velocity="2" />
    <dynamics damping="0.2" friction="0" />
  </joint>
  <joint name="JLFing40" type="revolute">
    <parent link="LHand3"/>
    <child  link="LFing40"/>
    <origin xyz="0.0123516 -0.0700494 -0.0363" rpy="0 -0 0 "/>
    <axis   xyz="0 0 -1"/>
    <limit lower="-1.74533" upper="1.74533" effort="100000" velocity="2" />
    <dynamics damping="0.2" friction="0" />
  </joint>
  <joint name="JLFing41" type="revolute">
    <parent link="LFing40"/>
    <child  link="LFing41"/>
    <origin xyz="0.00684694 -0.038831 0" rpy="0 -0 0 "/>
    <axis   xyz="0 0 -1"/>
    <limit lower="-1.74533" upper="1.74533" effort="100000" velocity="2" />
    <dynamics damping="0.2" friction="0" />
  </joint>
  <joint name="JLFing42" type="revolute">
    <parent link="LFing41"/>
    <child  link="LFing42"/>
    <origin xyz="0.0039279 -0.0222763 0" rpy="0 -0 0 "/>
    <axis   xyz="0 0 -1"/>
    <limit lower="-1.74533" upper="1.74533" effort="100000" velocity="2" />
    <dynamics damping="0.2" friction="0" />
  </joint>
  <joint name="JLThumbBase" type="revolute">
    <parent link="LHand3"/>
    <child  link="LThumbBase"/>
    <origin xyz="-0.00739791 -0.0156321 0.0177" rpy="0 -0 0 "/>
    <axis   xyz="-1 0 0"/>
    <limit lower="-1.74533" upper="1.74533" effort="100000" velocity="2" />
    <dynamics damping="0.2" friction="0" />
  </joint>
  <joint name="JLThumbBase2" type="revolute">
    <parent link="LThumbBase"/>
    <child  link="LThumbBase2"/>
    <origin xyz="0 0 0" rpy="0 -0 0 "/>
    <axis   xyz="0 -1 0"/>
    <limit lower="-1.74533" upper="2.96706" effort="100000" velocity="2" />
    <dynamics damping="0.2" friction="0" />
  </joint>
  <joint name="JLThumb0" type="revolute">
    <parent link="LThumbBase2"/>
    <child  link="LThumb0"/>
    <origin xyz="0 0 0" rpy="0 -0 0 "/>
    <axis   xyz="0 0 -1"/>
    <limit lower="-1.74533" upper="1.74533" effort="100000" velocity="2" />
    <dynamics damping="0.2" friction="0" />
  </joint>
  <joint name="JLThumb1" type="revolute">
    <parent link="LThumb0"/>
    <child  link="LThumb1"/>
    <origin xyz="0.0081383 -0.046155 0.012558" rpy="0 -0 0 "/>
    <axis   xyz="0 0 -1"/>
    <limit lower="-1.74533" upper="1.74533" effort="100000" velocity="2" />
    <dynamics damping="0.2" friction="0" />
  </joint>
  <joint name="JLThumb2" type="revolute">
    <parent link="LThumb1"/>
    <child  link="LThumb2"/>
    <origin xyz="0.006355 -0.036043 0.0098067" rpy="0 -0 0 "/>
    <axis   xyz="0 0 -1"/>
    <limit lower="-1.74533" upper="1.74533" effort="100000" velocity="2" />
    <dynamics damping="0.2" friction="0" />
  </joint>
  <joint name="JNeck" type="revolute">
    <parent link="Chest"/>
    <child  link="Neck"/>
    <origin xyz="0 0.4352 0.0048" rpy="0 -0 0 "/>
    <axis   xyz="-1 0 0"/>
    <limit lower="-1.0472" upper="0.523599" effort="100000" velocity="1" />
    <dynamics damping="0.2" friction="0" />
  </joint>
  <joint name="JHead" type="revolute">
    <parent link="Neck"/>
    <child  link="Head"/>
    <origin xyz="0 0.1255 0.0096" rpy="0 -0 0 "/>
    <axis   xyz="0 -1 0"/>
    <limit lower="-1.5708" upper="1.5708" effort="100000" velocity="1" />
    <dynamics damping="0.2" friction="0" />
  </joint>
  <joint name="JLeftEye" type="revolute">
    <parent link="Head"/>
    <child  link="LeftEye"/>
    <origin xyz="0.029 0.035 0.091" rpy="0 -0 0 "/>
    <axis   xyz="0 -1 0"/>
    <limit lower="-0.610865" upper="0.610865" effort="100000" velocity="4" />
    <dynamics damping="0.2" friction="0" />
  </joint>
  <joint name="JRightEye" type="revolute">
    <parent link="Head"/>
    <child  link="RightEye"/>
    <origin xyz="-0.03 0.035 0.091" rpy="0 -0 0 "/>
    <axis   xyz="0 -1 0"/>
    <limit lower="-0.610865" upper="0.610865" effort="100000" velocity="4" />
    <dynamics damping="0.2" friction="0" />
  </joint>
  <joint name="JRCollar" type="revolute">
    <parent link="Chest"/>
    <child  link="RCollar"/>
    <origin xyz="0 0.3917 0.0145" rpy="0 -0 0 "/>
    <axis   xyz="0 0 -1"/>
    <limit lower="-0.174533" upper="0.174533" effort="100000" velocity="1" />
    <dynamics damping="0.2" friction="0" />
  </joint>
  <joint name="JRShoulder" type="revolute">
    <parent link="RCollar"/>
    <child  link="RShoulder"/>
    <origin xyz="-0.1744 0 0" rpy="0 -0 0 "/>
    <axis   xyz="1 0 0"/>
    <limit lower="-3.28122" upper="1.06465" effort="100000" velocity="1" />
    <dynamics damping="0.2" friction="0" />
  </joint>
  <joint name="JRShoulder2" type="revolute">
    <parent link="RShoulder"/>
    <child  link="RShoulder2"/>
    <origin xyz="0 0 0" rpy="0 -0 0 "/>
    <axis   xyz="0 0 1"/>
    <limit lower="-2.33874" upper="0.837758" effort="100000" velocity="1" />
    <dynamics damping="0.2" friction="0" />
  </joint>
  <joint name="JRShoulder3" type="revolute">
    <parent link="RShoulder2"/>
    <child  link="RShoulder3"/>
    <origin xyz="0 0 0" rpy="0 -0 0 "/>
    <axis   xyz="0 -1 0"/>
    <limit lower="-1.64061" upper="0.593412" effort="100000" velocity="1" />
    <dynamics damping="0.2" friction="0" />
  </joint>
  <joint name="JRForearm" type="revolute">
    <parent link="RShoulder3"/>
    <child  link="RForearm"/>
    <origin xyz="0 -0.3102 0" rpy="0 -0 0 "/>
    <axis   xyz="1 0 0"/>
    <limit lower="-2.47837" upper="0.0174533" effort="100000" velocity="1" />
    <dynamics damping="0.2" friction="0" />
  </joint>
  <joint name="JRHand" type="revolute">
    <parent link="RForearm"/>
    <child  link="RHand"/>
    <origin xyz="0 -0.2617 0" rpy="0 -0 0 "/>
    <axis   xyz="0 1 0"/>
    <limit lower="-1.3439" upper="1.97222" effort="100000" velocity="1" />
    <dynamics damping="0.2" friction="0" />
  </joint>
  <joint name="JRHand2" type="revolute">
    <parent link="RHand"/>
    <child  link="RHand2"/>
    <origin xyz="0 0 0" rpy="0 -0 0 "/>
    <axis   xyz="-1 0 0"/>
    <limit lower="-0.820305" upper="0.471239" effort="100000" velocity="1" />
    <dynamics damping="0.2" friction="0" />
  </joint>
  <joint name="JRHand3" type="revolute">
    <parent link="RHand2"/>
    <child  link="RHand3"/>
    <origin xyz="0 0 0" rpy="0 -0 0 "/>
    <axis   xyz="0 0 -1"/>
    <limit lower="-1.5708" upper="1.41372" effort="100000" velocity="1" />
    <dynamics damping="0.2" friction="0" />
  </joint>
  <joint name="JRFing10" type="revolute">
    <parent link="RHand3"/>
    <child  link="RFing10"/>
    <origin xyz="-0.0150049 -0.0850973 0.02267" rpy="0 -0 0 "/>
    <axis   xyz="0 0 1"/>
    <limit lower="-1.74533" upper="1.74533" effort="100000" velocity="2" />
    <dynamics damping="0.2" friction="0" />
  </joint>
  <joint name="JRFing11" type="revolute">
    <parent link="RFing10"/>
    <child  link="RFing11"/>
    <origin xyz="-0.00822397 -0.0466405 0" rpy="0 -0 0 "/>
    <axis   xyz="0 0 1"/>
    <limit lower="-1.74533" upper="1.74533" effort="100000" velocity="2" />
    <dynamics damping="0.2" friction="0" />
  </joint>
  <joint name="JRFing12" type="revolute">
    <parent link="RFing11"/>
    <child  link="RFing12"/>
    <origin xyz="-0.004817 -0.0273186 0" rpy="0 -0 0 "/>
    <axis   xyz="0 0 1"/>
    <limit lower="-1.74533" upper="1.74533" effort="100000" velocity="2" />
    <dynamics damping="0.2" friction="0" />
  </joint>
  <joint name="JRFing20" type="revolute">
    <parent link="RHand3"/>
    <child  link="RFing20"/>
    <origin xyz="-0.0149702 -0.0849003 0" rpy="0 -0 0 "/>
    <axis   xyz="0 0 1"/>
    <limit lower="-1.74533" upper="1.74533" effort="100000" velocity="2" />
    <dynamics damping="0.2" friction="0" />
  </joint>
  <joint name="JRFing21" type="revolute">
    <parent link="RFing20"/>
    <child  link="RFing21"/>
    <origin xyz="-0.00892898 -0.0506388 0" rpy="0 -0 0 "/>
    <axis   xyz="0 0 1"/>
    <limit lower="-1.74533" upper="1.74533" effort="100000" velocity="2" />
    <dynamics damping="0.2" friction="0" />
  </joint>
  <joint name="JRFing22" type="revolute">
    <parent link="RFing21"/>
    <child  link="RFing22"/>
    <origin xyz="-0.00570608 -0.0323608 0" rpy="0 -0 0 "/>
    <axis   xyz="0 0 1"/>
    <limit lower="-1.74533" upper="1.74533" effort="100000" velocity="2" />
    <dynamics damping="0.2" friction="0" />
  </joint>
  <joint name="JRFing30" type="revolute">
    <parent link="RHand3"/>
    <child  link="RFing30"/>
    <origin xyz="-0.0137286 -0.077859 -0.0186" rpy="0 -0 0 "/>
    <axis   xyz="0 0 1"/>
    <limit lower="-1.74533" upper="1.74533" effort="100000" velocity="2" />
    <dynamics damping="0.2" friction="0" />
  </joint>
  <joint name="JRFing31" type="revolute">
    <parent link="RFing30"/>
    <child  link="RFing31"/>
    <origin xyz="-0.00819098 -0.0464534 0" rpy="0 -0 0 "/>
    <axis   xyz="0 0 1"/>
    <limit lower="-1.74533" upper="1.74533" effort="100000" velocity="2" />
    <dynamics damping="0.2" friction="0" />
  </joint>
  <joint name="JRFing32" type="revolute">
    <parent link="RFing31"/>
    <child  link="RFing32"/>
    <origin xyz="-0.00553764 -0.0314055 0" rpy="0 -0 0 "/>
    <axis   xyz="0 0 1"/>
    <limit lower="-1.74533" upper="1.74533" effort="100000" velocity="2" />
    <dynamics damping="0.2" friction="0" />
  </joint>
  <joint name="JRFing40" type="revolute">
    <parent link="RHand3"/>
    <child  link="RFing40"/>
    <origin xyz="-0.0123516 -0.0700494 -0.0363" rpy="0 -0 0 "/>
    <axis   xyz="0 0 1"/>
    <limit lower="-1.74533" upper="1.74533" effort="100000" velocity="2" />
    <dynamics damping="0.2" friction="0" />
  </joint>
  <joint name="JRFing41" type="revolute">
    <parent link="RFing40"/>
    <child  link="RFing41"/>
    <origin xyz="-0.00684694 -0.038831 0" rpy="0 -0 0 "/>
    <axis   xyz="0 0 1"/>
    <limit lower="-1.74533" upper="1.74533" effort="100000" velocity="2" />
    <dynamics damping="0.2" friction="0" />
  </joint>
  <joint name="JRFing42" type="revolute">
    <parent link="RFing41"/>
    <child  link="RFing42"/>
    <origin xyz="-0.00392792 -0.0222764 0" rpy="0 -0 0 "/>
    <axis   xyz="0 0 1"/>
    <limit lower="-1.74533" upper="1.74533" effort="100000" velocity="2" />
    <dynamics damping="0.2" friction="0" />
  </joint>
  <joint name="JRThumbBase" type="revolute">
    <parent link="RHand3"/>
    <child  link="RThumbBase"/>
    <origin xyz="0.00739791 -0.0156321 0.0177" rpy="0 -0 0 "/>
    <axis   xyz="-1 0 0"/>
    <limit lower="-1.74533" upper="1.74533" effort="100000" velocity="2" />
    <dynamics damping="0.2" friction="0" />
  </joint>
  <joint name="JRThumbBase2" type="revolute">
    <parent link="RThumbBase"/>
    <child  link="RThumbBase2"/>
    <origin xyz="0 0 0" rpy="0 -0 0 "/>
    <axis   xyz="0 1 0"/>
    <limit lower="-2.96706" upper="1.74533" effort="100000" velocity="2" />
    <dynamics damping="0.2" friction="0" />
  </joint>
  <joint name="JRThumb0" type="revolute">
    <parent link="RThumbBase2"/>
    <child  link="RThumb0"/>
    <origin xyz="0 0 0" rpy="0 -0 0 "/>
    <axis   xyz="0 0 1"/>
    <limit lower="-1.74533" upper="1.74533" effort="100000" velocity="2" />
    <dynamics damping="0.2" friction="0" />
  </joint>
  <joint name="JRThumb1" type="revolute">
    <parent link="RThumb0"/>
    <child  link="RThumb1"/>
    <origin xyz="-0.0081383 -0.046155 0.012558" rpy="0 -0 0 "/>
    <axis   xyz="0 0 1"/>
    <limit lower="-1.74533" upper="1.74533" effort="100000" velocity="2" />
    <dynamics damping="0.2" friction="0" />
  </joint>
  <joint name="JRThumb2" type="revolute">
    <parent link="RThumb1"/>
    <child  link="RThumb2"/>
    <origin xyz="-0.006355 -0.03604 0.009807" rpy="0 -0 0 "/>
    <axis   xyz="0 0 1"/>
    <limit lower="-1.74533" upper="1.74533" effort="100000" velocity="2" />
    <dynamics damping="0.2" friction="0" />
  </joint>
  <joint name="JLThigh" type="revolute">
    <parent link="Hips"/>
    <child  link="LThigh"/>
    <origin xyz="0.0824 0 0" rpy="0 -0 0 "/>
    <axis   xyz="-1 0 0"/>
    <limit lower="-1.0472" upper="2.0944" effort="100000" velocity="1" />
    <dynamics damping="0.2" friction="0" />
  </joint>
  <joint name="JLCalf" type="revolute">
    <parent link="LThigh"/>
    <child  link="LCalf"/>
    <origin xyz="0 -0.3877 0" rpy="0 -0 0 "/>
    <axis   xyz="-1 0 0"/>
    <limit lower="-2.0944" upper="0.0174533" effort="100000" velocity="1" />
    <dynamics damping="0.2" friction="0" />
  </joint>
  <joint name="JLFoot" type="revolute">
    <parent link="LCalf"/>
    <child  link="LFoot"/>
    <origin xyz="0 -0.4023 0" rpy="0 -0 0 "/>
    <axis   xyz="-1 0 0"/>
    <limit lower="-1.0472" upper="1.0472" effort="100000" velocity="1" />
    <dynamics damping="0.2" friction="0" />
  </joint>
  <joint name="JLToe" type="revolute">
    <parent link="LFoot"/>
    <child  link="LToe"/>
    <origin xyz="0 -0.0387 0.1405" rpy="0 -0 0 "/>
    <axis   xyz="-1 0 0"/>
    <limit lower="-0.523599" upper="0.523599" effort="100000" velocity="1" />
    <dynamics damping="0.2" friction="0" />
  </joint>
  <joint name="JRThigh" type="revolute">
    <parent link="Hips"/>
    <child  link="RThigh"/>
    <origin xyz="-0.0824 0 0" rpy="0 -0 0 "/>
    <axis   xyz="-1 0 0"/>
    <limit lower="-1.0472" upper="2.0944" effort="100000" velocity="1" />
    <dynamics damping="0.2" friction="0" />
  </joint>
  <joint name="JRCalf" type="revolute">
    <parent link="RThigh"/>
    <child  link="RCalf"/>
    <origin xyz="0 -0.3877 0" rpy="0 -0 0 "/>
    <axis   xyz="-1 0 0"/>
    <limit lower="-2.0944" upper="0.0174533" effort="100000" velocity="1" />
    <dynamics damping="0.2" friction="0" />
  </joint>
  <joint name="JRFoot" type="revolute">
    <parent link="RCalf"/>
    <child  link="RFoot"/>
    <origin xyz="0 -0.4023 0" rpy="0 -0 0 "/>
    <axis   xyz="-1 0 0"/>
    <limit lower="-1.0472" upper="1.0472" effort="100000" velocity="1" />
    <dynamics damping="0.2" friction="0" />
  </joint>
  <joint name="JRToe" type="revolute">
    <parent link="RFoot"/>
    <child  link="RToe"/>
    <origin xyz="0 -0.0387 0.1405" rpy="0 -0 0 "/>
    <axis   xyz="-1 0 0"/>
    <limit lower="-0.523599" upper="0.523599" effort="100000" velocity="1" />
    <dynamics damping="0.2" friction="0" />
  </joint>
</robot>
